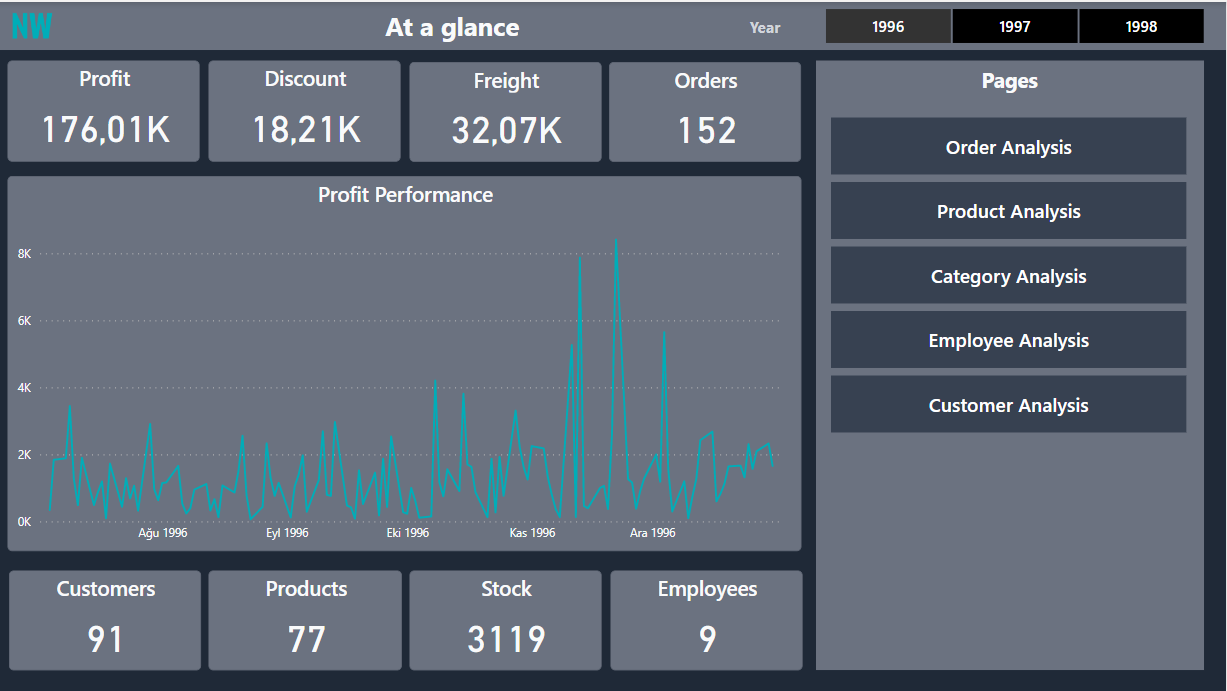

The dashboard page shown, as its layout file describes it:
{"tool":"powerbi","page":{"name":"At a glance","canvas":[1280,720],"ordinal":0},"visuals":[{"type":"shape","title":"Header","box":[0,0,1280,50],"z":0},{"type":"image","title":"Logo","box":[10.9,0,51.5,50],"z":1000},{"type":"card","title":"Profit","fields":{"Values":["Measure.Total profit"]},"box":[11.2,60.7,200,105.5],"z":2000},{"type":"card","title":"Orders","fields":{"Values":["Measure.Count of orders"]},"box":[637.6,62.3,199.8,103.9],"z":3000},{"type":"card","title":"Stock","fields":{"Values":["Measure.Total stock"]},"box":[429.9,591.3,199.8,103.9],"z":4000},{"type":"card","title":"Customers","fields":{"Values":["Measure.Count of customers"]},"box":[12.8,591.3,199.8,103.9],"z":5000},{"type":"card","title":"Freight","fields":{"Values":["Measure.Total freight"]},"box":[429.9,62.3,199.8,103.9],"z":6000},{"type":"card","title":"Products","fields":{"Values":["Measure.Count of products"]},"box":[220.5,591.3,201.3,103.9],"z":7000},{"type":"lineChart","title":"Profit Performance","fields":{"Y":["Measure.Total profit"],"Category":["Date.FullDateKey"]},"box":[11.2,181,826.6,390.9],"z":8000},{"type":"slicer","fields":{"Values":["Date.YearNumber"]},"box":[837.1,0,443.6,50],"z":9000},{"type":"textbox","box":[762.2,9.4,75,32.8],"z":10000},{"type":"textbox","box":[253,1.6,442,50],"z":11000},{"type":"card","title":"Employees","fields":{"Values":["Measure.Count of employees"]},"box":[639.2,591.3,199.8,103.9],"z":12000},{"type":"card","title":"Discount","fields":{"Values":["Measure.Total discount"]},"box":[220.5,60.7,199.8,105.5],"z":13000},{"type":"shape","box":[852.3,60.9,403.7,634.4],"z":14000},{"type":"textbox","box":[852.8,60.9,403,39],"z":15000},{"type":"actionButton","box":[868.4,388.9,370.2,59.3],"z":16000},{"type":"actionButton","box":[868.4,321.7,370.2,59.3],"z":17000},{"type":"actionButton","box":[868.4,187.4,370.2,59.3],"z":18000},{"type":"actionButton","box":[868.4,254.6,370.2,59.3],"z":19000},{"type":"actionButton","box":[868.4,120.3,370.2,59.3],"z":19001}]}

Visuals, with their boxes in screenshot pixels (x1, y1, x2, y2), scaled from the page's 1280x720 canvas onto the 1227x691 screenshot:
"Header" shape: bbox=[0, 0, 1226, 48]
"Logo" image: bbox=[10, 0, 60, 48]
"Profit" card: bbox=[11, 58, 202, 160]
"Orders" card: bbox=[611, 60, 803, 160]
"Stock" card: bbox=[412, 567, 604, 667]
"Customers" card: bbox=[12, 567, 204, 667]
"Freight" card: bbox=[412, 60, 604, 160]
"Products" card: bbox=[211, 567, 404, 667]
"Profit Performance" lineChart: bbox=[11, 174, 803, 549]
slicer - Date.YearNumber: bbox=[802, 0, 1226, 48]
textbox: bbox=[731, 9, 803, 41]
textbox: bbox=[243, 2, 666, 50]
"Employees" card: bbox=[613, 567, 804, 667]
"Discount" card: bbox=[211, 58, 403, 160]
shape: bbox=[817, 58, 1204, 667]
textbox: bbox=[817, 58, 1204, 96]
actionButton: bbox=[832, 373, 1187, 430]
actionButton: bbox=[832, 309, 1187, 366]
actionButton: bbox=[832, 180, 1187, 237]
actionButton: bbox=[832, 244, 1187, 301]
actionButton: bbox=[832, 115, 1187, 172]
